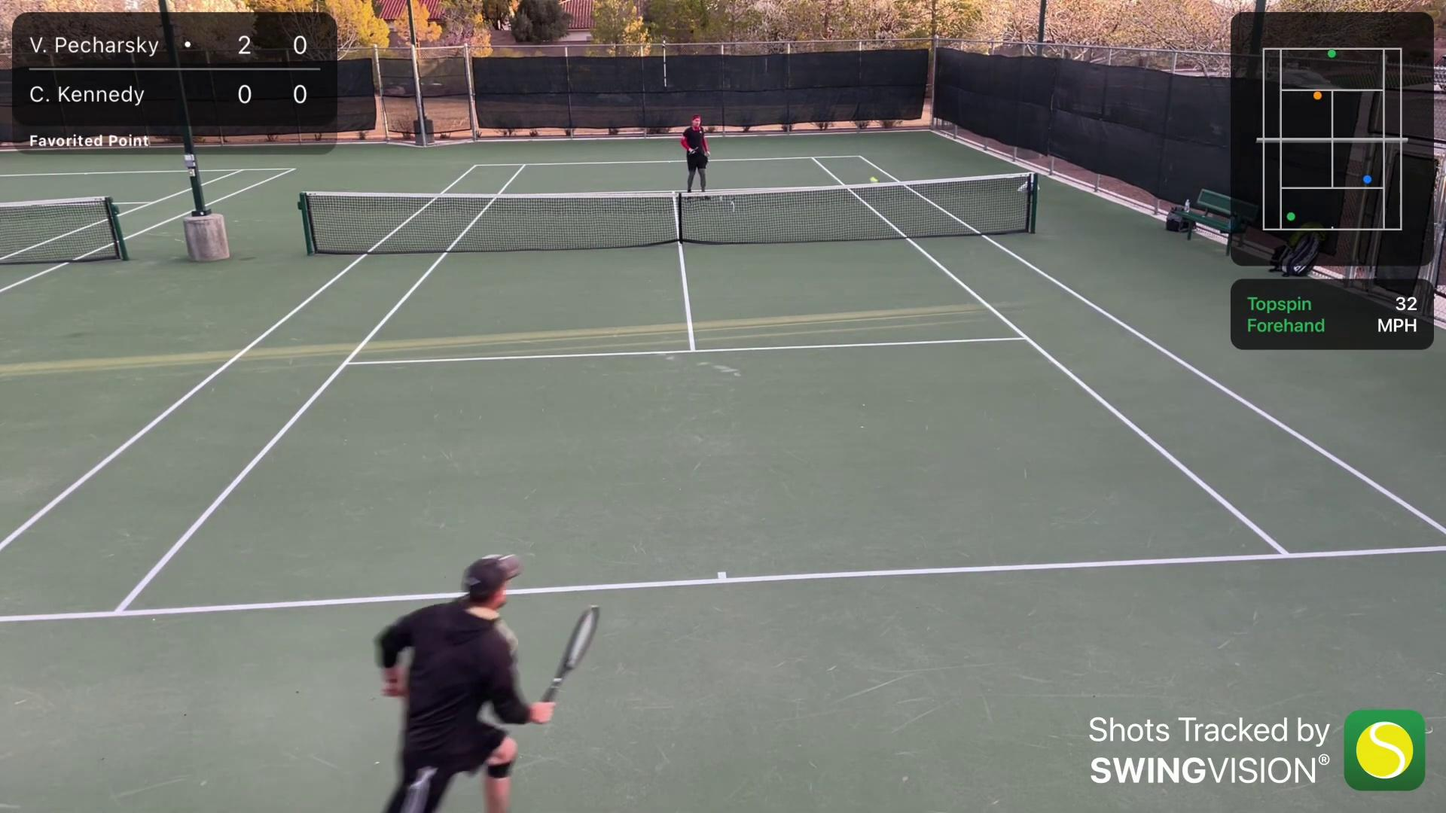ball: (873, 178, 880, 185)
